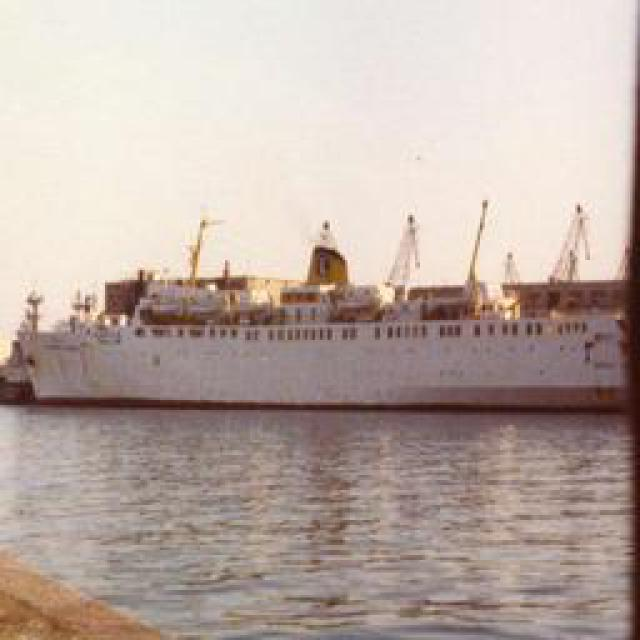Ship: (14, 291, 614, 416)
